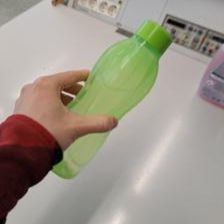bottle: (50, 18, 173, 181)
